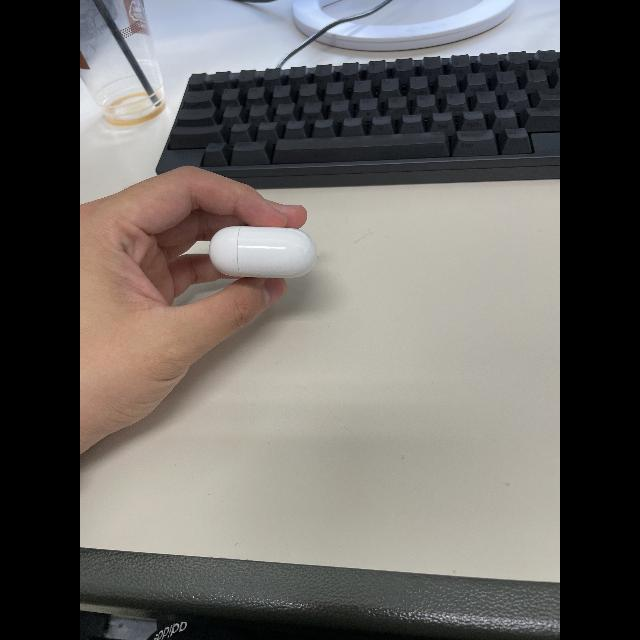airpod3: (204, 210, 328, 284)
